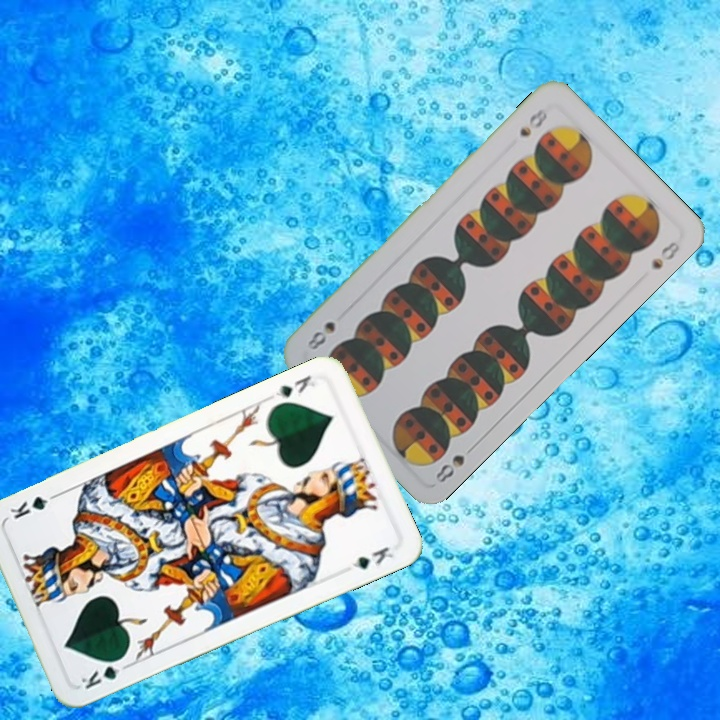GK: (77, 652, 133, 692), (271, 371, 318, 400)
S8: (431, 440, 479, 486), (515, 104, 552, 140)
